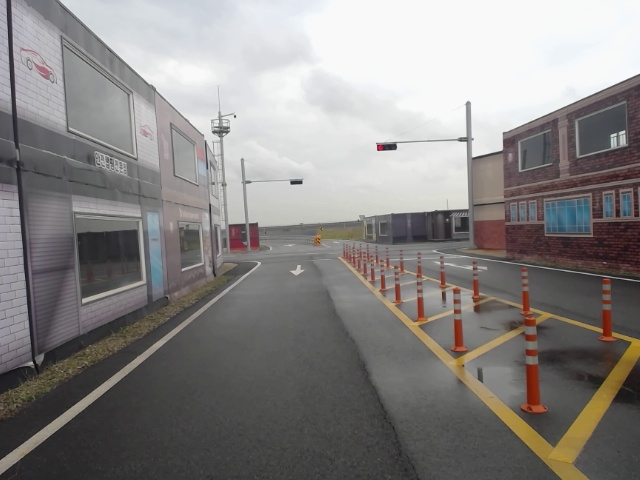red_3: (376, 143, 397, 151)
